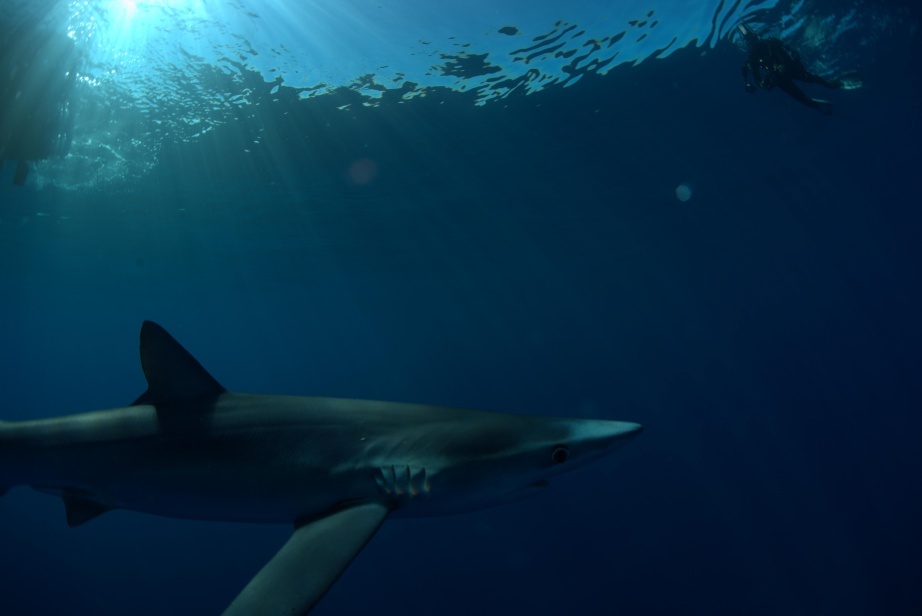Azul: (4, 294, 658, 616)
